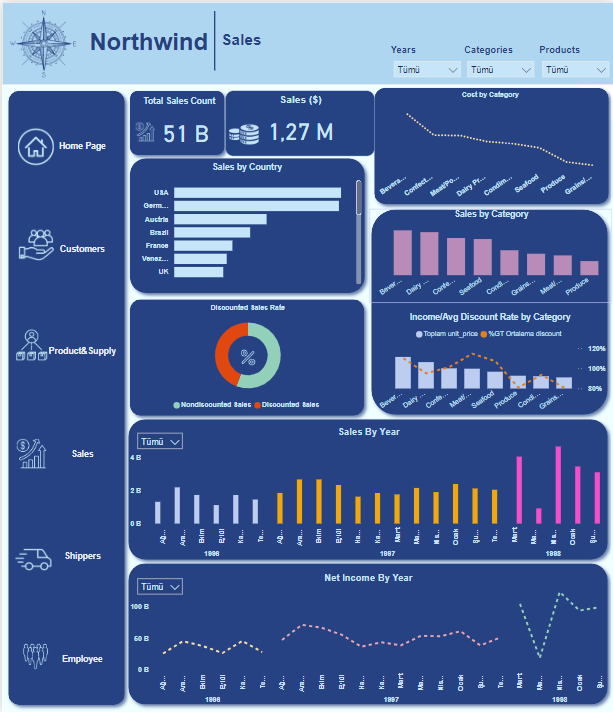

Layout of this report page (visuals, bound fields, positions):
{"tool":"powerbi","page":{"name":"Sales","canvas":[950,1100],"ordinal":3},"visuals":[{"type":"shape","box":[0,0,950.6,128],"z":0},{"type":"shape","box":[0,128.3,200,971.7],"z":1000},{"type":"textbox","box":[129.9,33.8,206.5,57.1],"z":2000},{"type":"image","box":[-0.4,-0.4,129.9,123.4],"z":3000},{"type":"shape","box":[323.4,14.3,13,92.2],"z":4000},{"type":"textbox","box":[333.9,40.3,98.4,40.3],"z":5000},{"type":"shape","box":[188.9,233.3,384,228.4],"z":6000},{"type":"card","title":"Sales ($)","fields":{"Values":["DAX.TotalNetIncome"]},"box":[345.8,137.5,231.2,102.1],"z":7000},{"type":"clusteredBarChart","title":"Sales by Country","fields":{"Category":["customers.country"],"Y":["Sum(order details.quantity)"]},"box":[198.8,248.1,364.2,193.8],"z":8000},{"type":"shape","box":[562.7,311.8,386,338.2],"z":9000},{"type":"lineClusteredColumnComboChart","title":"Sales by Category","fields":{"Category":["products.category_name"],"Y":["Sum(order details.quantity)"]},"box":[570.6,322.1,376.5,145.6],"z":10000},{"type":"lineClusteredColumnComboChart","title":"Income/Avg Discount Rate by Category","fields":{"Category":["products.category_name"],"Y":["Sum(order details.unit_price)"],"Y2":["Sum(order details.discount)"]},"box":[573.1,481.7,369.2,161.5],"z":11000},{"type":"shape","box":[187.1,861.4,762.9,238.6],"z":12000},{"type":"lineChart","title":"Net Income By Year","fields":{"Y":["DAX.NetIncome1996","DAX.NetIncome1997","DAX.NetIncome1998"],"Category":["Dates.Years","Dates.Months"]},"box":[192.5,884.2,750,215.8],"z":13000},{"type":"slicer","fields":{"Values":["Parametre.Parametre"]},"box":[200,884.3,90,44.3],"z":14000},{"type":"shape","box":[187.1,637.1,762.9,237.1],"z":15000},{"type":"clusteredColumnChart","title":"Sales By Year","fields":{"Y":["DAX.TotalSales1996","DAX.TotalSales1997","DAX.TotalSales1998"],"Category":["Dates.Years","Dates.Months"]},"box":[192.9,658.9,750.9,215.2],"z":16000},{"type":"slicer","fields":{"Values":["Parametre 2.Parametre"]},"box":[200,658.6,90,44.3],"z":17000},{"type":"shape","box":[189,450,382.9,200],"z":18000},{"type":"donutChart","title":"Discounted Sales Rate","fields":{"Y":["DAX.Nondiscounted Sales","DAX.Discounted Sales"]},"box":[208.3,467.4,343.2,175.8],"z":19000},{"type":"shape","box":[567.6,123.9,383.1,200],"z":20000},{"type":"lineChart","title":"Cost by Category","fields":{"Category":["products.category_name"],"Y":["Sum(products.unit_cost)"]},"box":[576.9,137.5,360.6,175],"z":21000},{"type":"image","box":[361.7,531.9,36.2,36.2],"z":22000},{"type":"slicer","title":"Products","fields":{"Values":["products.product_name"]},"box":[826.9,64.4,123.1,63.5],"z":23000},{"type":"slicer","title":"Categories","fields":{"Values":["products.category_name"]},"box":[712.5,64.4,123.1,63.5],"z":24000},{"type":"slicer","title":"Years","fields":{"Values":["Dates.Years"]},"box":[597.8,64,123.6,64],"z":25000},{"type":"shape","box":[187.5,128.8,166.3,119.2],"z":26000},{"type":"card","title":"Total Sales Count","fields":{"Values":["DAX.TotalSales"]},"box":[214,145.9,140.1,94.2],"z":27000},{"type":"image","box":[200,181.9,45.7,40.4],"z":28000},{"type":"image","box":[345.7,183,58.5,42.6],"z":29000},{"type":"pageNavigator","box":[46.1,144.7,156.6,955.3],"z":30000},{"type":"image","box":[17,187.2,72.3,70.2],"z":31000},{"type":"image","box":[19.4,338.7,68.5,72.6],"z":32000},{"type":"image","box":[14.9,495.7,61.7,72.3],"z":33000},{"type":"image","box":[17,672.3,61.7,57.4],"z":34000},{"type":"image","box":[12.8,834,70.2,59.6],"z":35000},{"type":"image","box":[23.9,989.1,57.6,51.1],"z":36000}]}

Visuals, with their boxes in screenshot pixels (x1, y1, x2, y2), scaled from the page's 950x1100 canvas onto the 613x712 screenshot:
shape: bbox=(0, 0, 612, 83)
shape: bbox=(0, 83, 129, 711)
textbox: bbox=(84, 22, 217, 59)
image: bbox=(0, 0, 84, 80)
shape: bbox=(209, 9, 217, 69)
textbox: bbox=(215, 26, 279, 52)
shape: bbox=(122, 151, 370, 299)
"Sales ($)" card: bbox=(223, 89, 372, 155)
"Sales by Country" clusteredBarChart: bbox=(128, 161, 363, 286)
shape: bbox=(363, 202, 612, 421)
"Sales by Category" lineClusteredColumnComboChart: bbox=(368, 208, 611, 303)
"Income/Avg Discount Rate by Category" lineClusteredColumnComboChart: bbox=(370, 312, 608, 416)
shape: bbox=(121, 558, 612, 711)
"Net Income By Year" lineChart: bbox=(124, 572, 608, 711)
slicer - Parametre.Parametre: bbox=(129, 572, 187, 601)
shape: bbox=(121, 412, 612, 566)
"Sales By Year" clusteredColumnChart: bbox=(124, 426, 609, 566)
slicer - Parametre 2.Parametre: bbox=(129, 426, 187, 455)
shape: bbox=(122, 291, 369, 421)
"Discounted Sales Rate" donutChart: bbox=(134, 303, 356, 416)
shape: bbox=(366, 80, 612, 210)
"Cost by Category" lineChart: bbox=(372, 89, 605, 202)
image: bbox=(233, 344, 257, 368)
"Products" slicer: bbox=(534, 42, 612, 83)
"Categories" slicer: bbox=(460, 42, 539, 83)
"Years" slicer: bbox=(386, 41, 465, 83)
shape: bbox=(121, 83, 228, 161)
"Total Sales Count" card: bbox=(138, 94, 228, 155)
image: bbox=(129, 118, 159, 144)
image: bbox=(223, 118, 261, 146)
pageNavigator: bbox=(30, 94, 131, 711)
image: bbox=(11, 121, 58, 167)
image: bbox=(13, 219, 57, 266)
image: bbox=(10, 321, 49, 368)
image: bbox=(11, 435, 51, 472)
image: bbox=(8, 540, 54, 578)
image: bbox=(15, 640, 53, 673)
